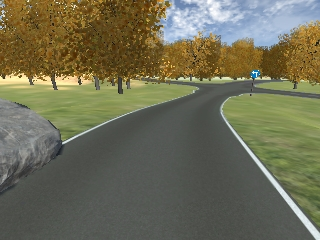left: (250, 70, 261, 79)
